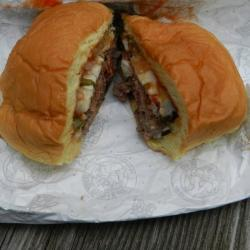burger: (121, 16, 247, 160), (5, 3, 112, 165)
